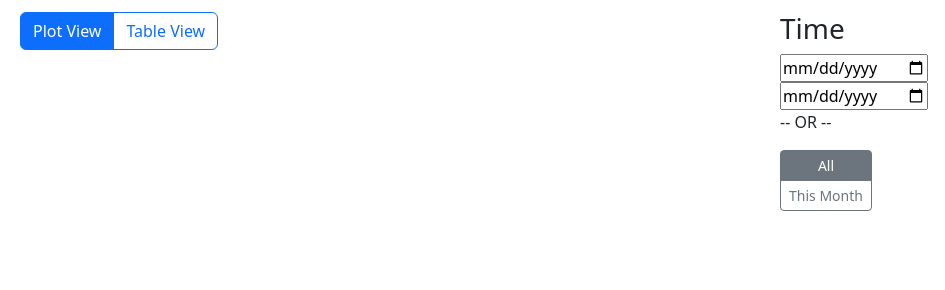
Test: Dashboard should switch between plot and table views
This screenshot has width=945, height=290.
Note: Click on Table View button
Click the button "Table View" at (166, 31), box [113,12,218,50]
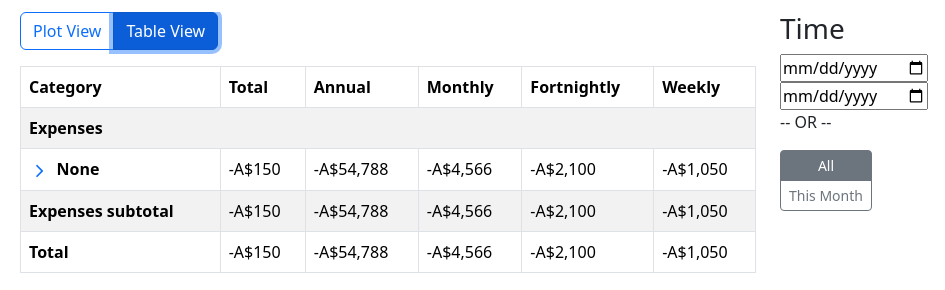
Expected: the element with test id "category-averages-table" is shown, [20,66,756,273]
Note: Click on Plot View button
Click the button "Plot View" at (67, 31), box [20,12,114,50]
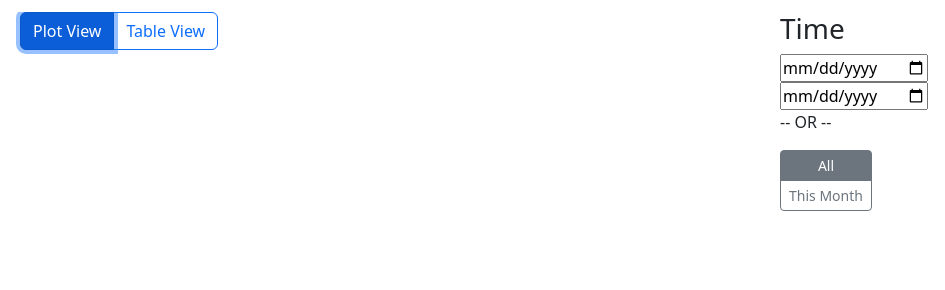
Expected: the element with test id "category-averages-table" is gone
